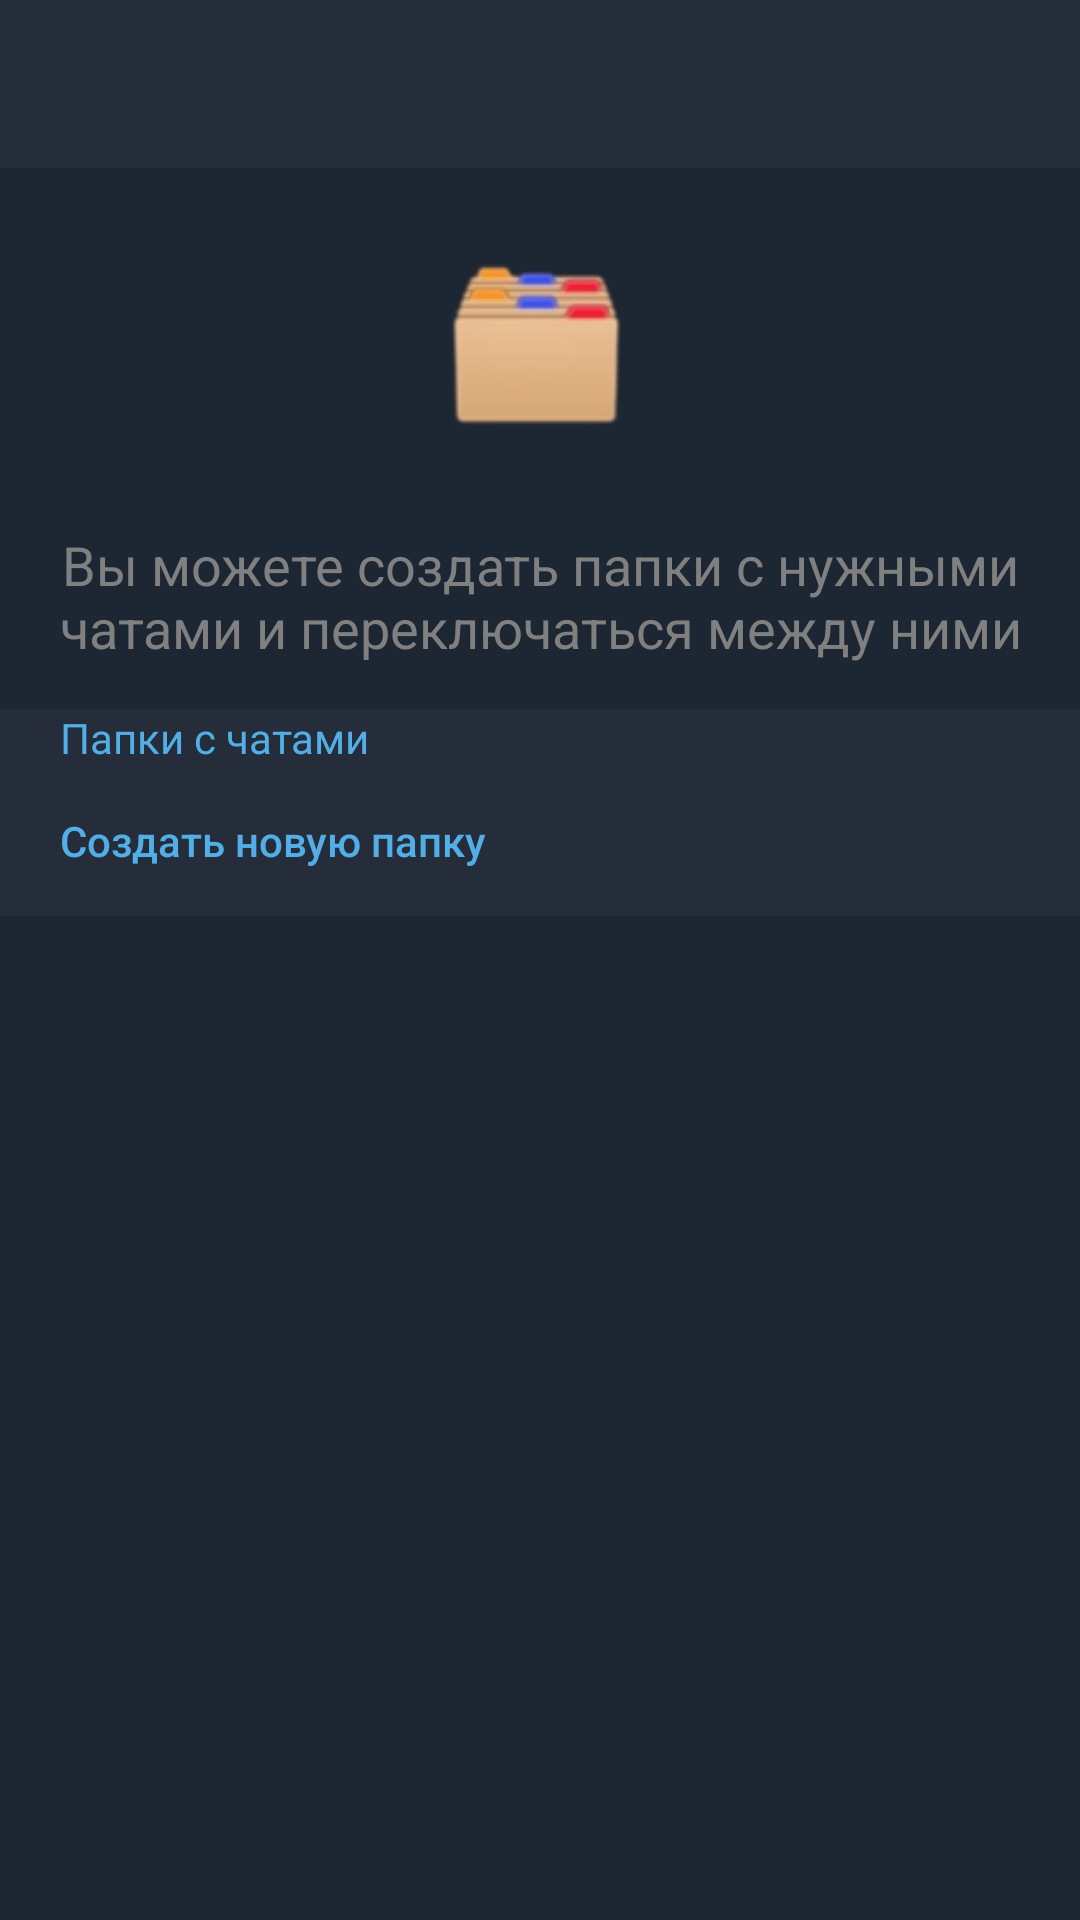

Icons on this 1080x1920 Android screen, each with the point to tap as (x=x, y=y):
folders: (x=536, y=344)
